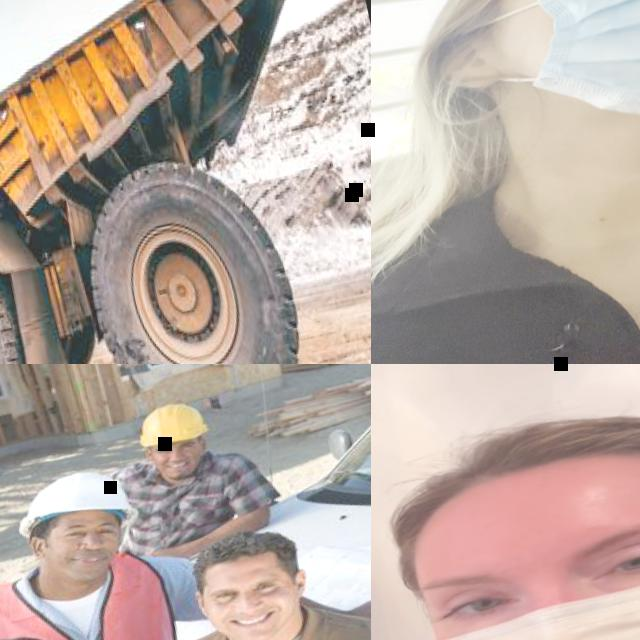Hardhat: (10, 458, 142, 550), (130, 391, 216, 450)
Mask: (447, 0, 640, 172), (400, 512, 640, 640)
NO-Hardhat: (371, 380, 640, 551), (176, 525, 298, 582)
NO-Mask: (34, 538, 118, 595), (212, 596, 296, 640), (149, 450, 207, 484)
NO-Safety Vest: (371, 103, 640, 364), (112, 446, 250, 567)
Person: (371, 0, 640, 364), (371, 364, 640, 640), (0, 445, 229, 640), (92, 382, 286, 571), (122, 498, 371, 640)
Safety Vest: (0, 548, 190, 640)
vehicle: (0, 0, 371, 364), (100, 364, 371, 640)
